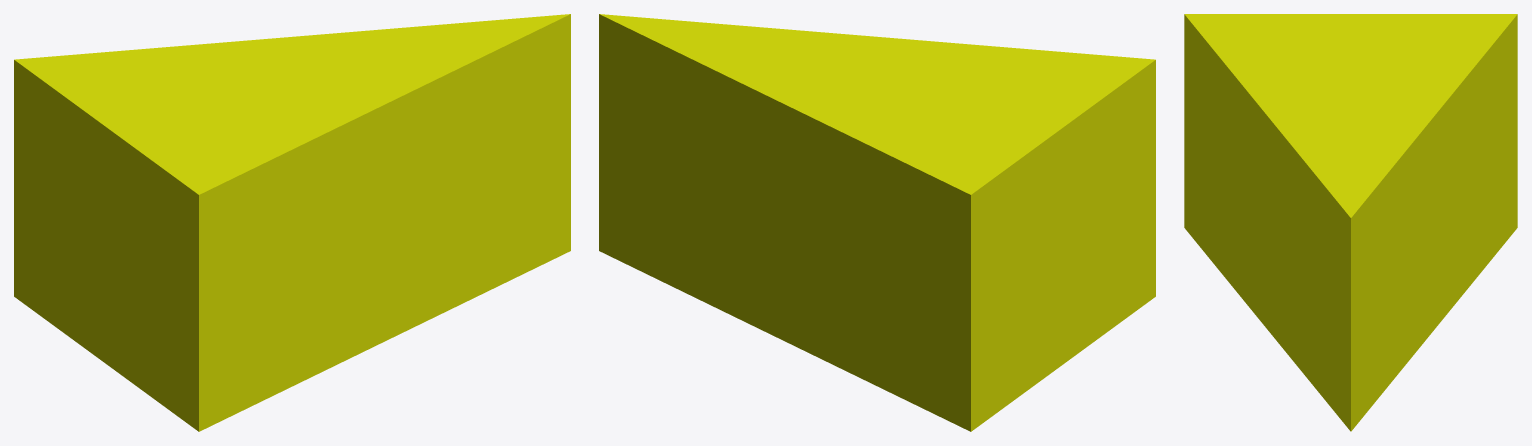
File: Cheese.fbx
3 renders of one model, left to right at view 1: azimuth 30°, elevation 25°; view 2: azimuth 150°, elevation 25°; view 3: azimuth 270°, elevation 25°, orthographic. The views are drawn at different scales.
Visible parts, largest first — view 1: Cube.009; view 2: Cube.009; view 3: Cube.009.
Boxes of the visible parts, left/top/right/bottom form: Cube.009: left=14, top=14, right=570, bottom=431; Cube.009: left=599, top=14, right=1155, bottom=431; Cube.009: left=1184, top=14, right=1517, bottom=431.
Size of the model in its own units: 200 by 97.5 by 138.
